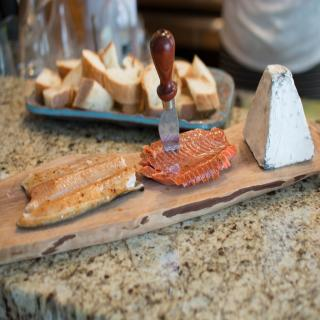Cheese: (242, 64, 316, 169)
